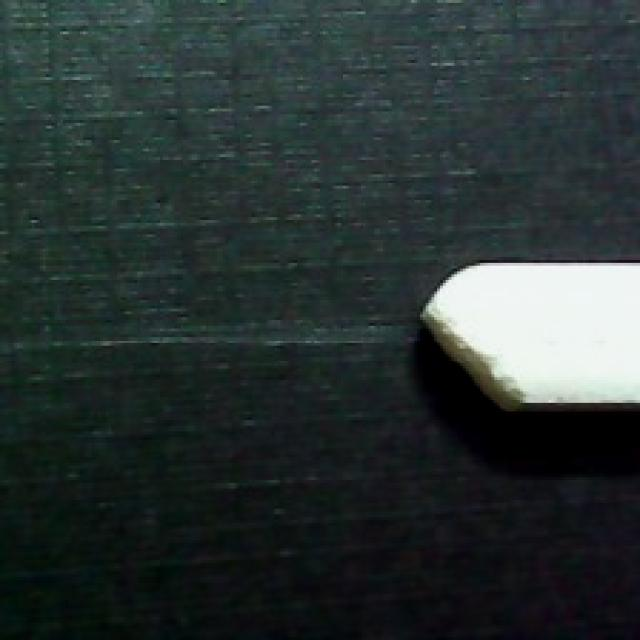defected: (414, 246, 640, 417)
